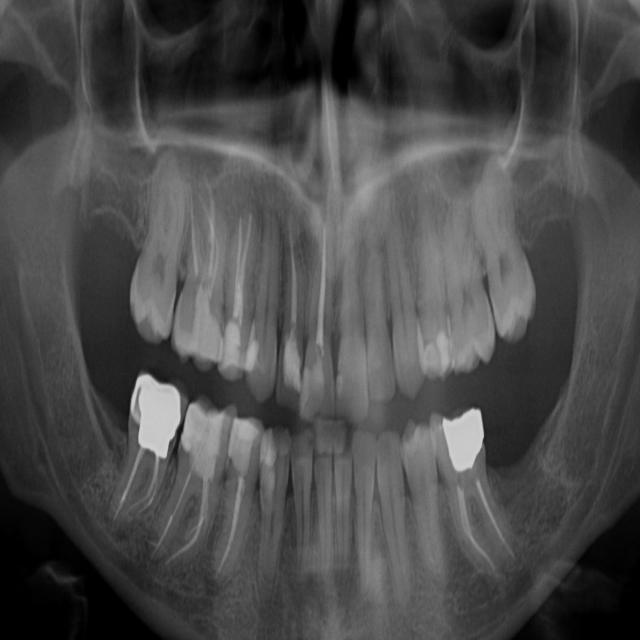kanal-tedavisi: (449, 470, 519, 580), (176, 175, 227, 316), (110, 444, 170, 528), (305, 209, 341, 340), (169, 459, 211, 561), (222, 209, 256, 326), (278, 216, 310, 340), (222, 469, 254, 567)
kaplama: (132, 371, 179, 451), (440, 409, 487, 465)
